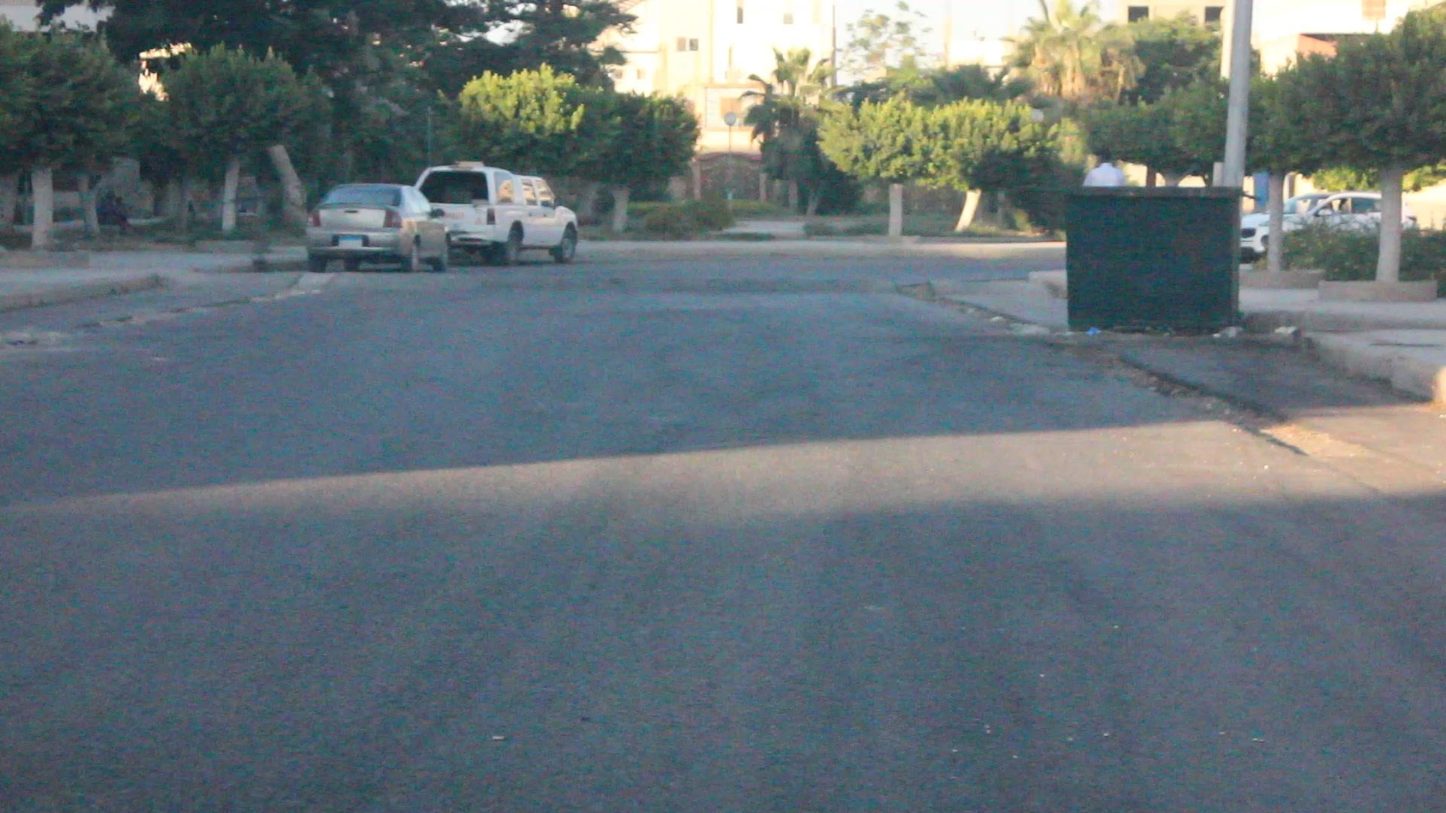Bump: (296, 263, 936, 299)
